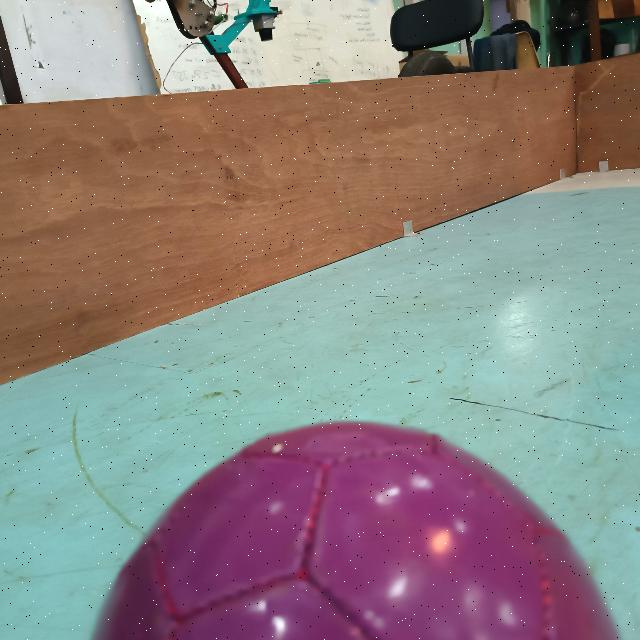P: (86, 412, 630, 640)
